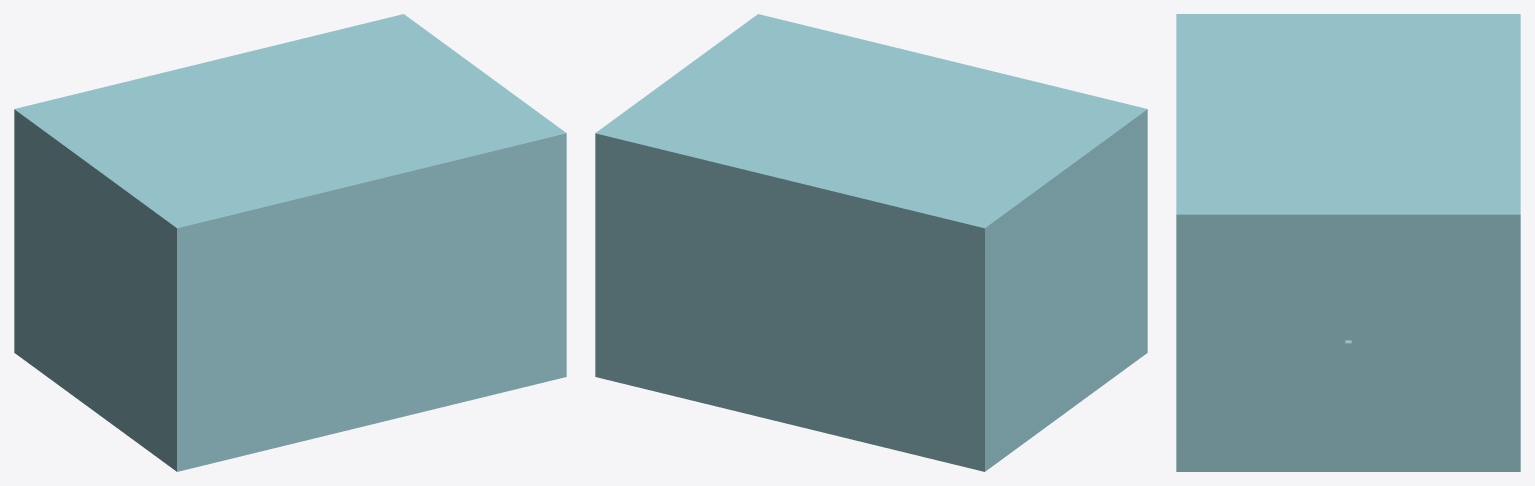
The model's file is cuboid_eraser_v7012.obj.
3 renders of one model, left to right at view 1: azimuth 30°, elevation 25°; view 2: azimuth 150°, elevation 25°; view 3: azimuth 270°, elevation 25°, orthographic. The views are drawn at different scales.
Bounding box in the file's own units: 0.0724 × 0.0427 × 0.0517.
1 material, 1 textured.
